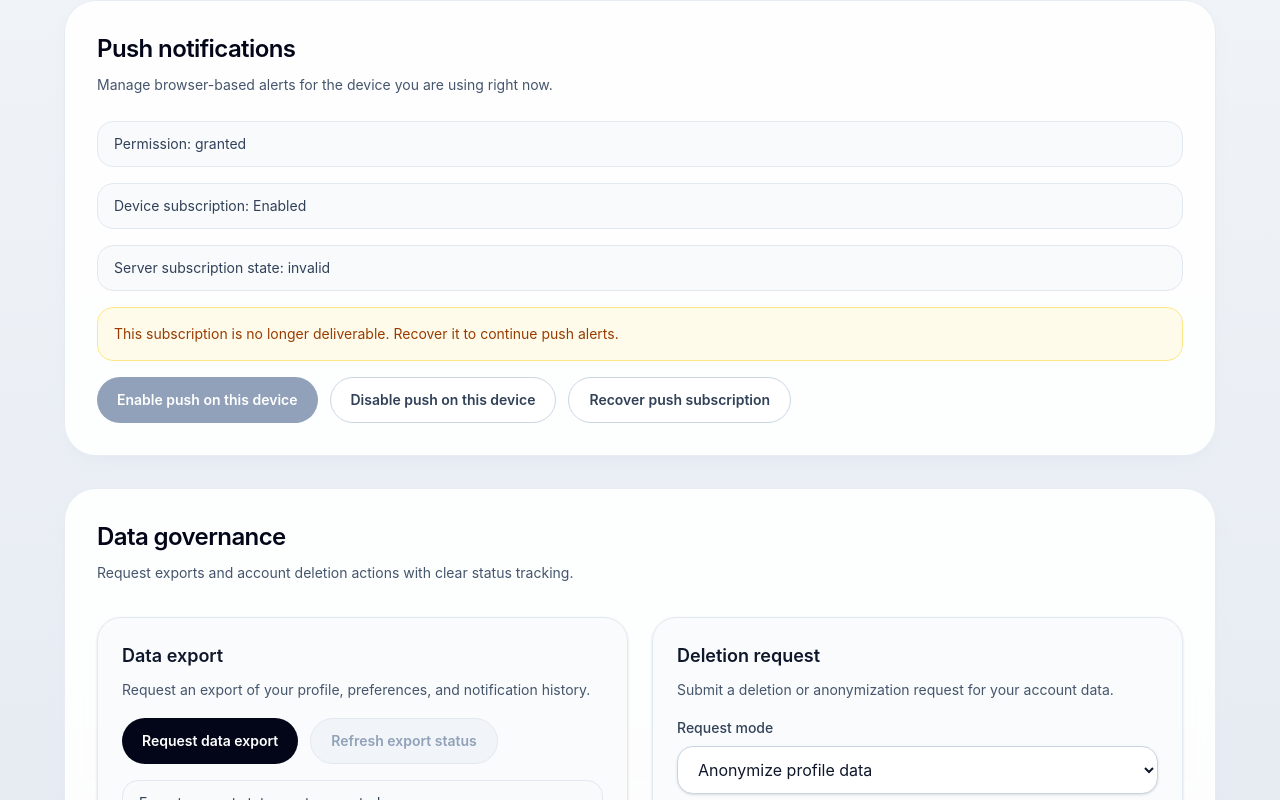
Scenario: SettingsPreferencesForm › maps invalid backend state to recover action
(page scrolled)
Expected: the text "Server subscription state: invalid" is shown, [97,245,1183,291]
Expected: the text "This subscription is no longer deliverable. Recover it to continue push alerts." is shown, [97,307,1183,361]
What coordinates should you click on to do the following:
click the button "Recover push subscription"
I would click on:
 (680, 400)
Its box is [568,377,791,423].
(page scrolled)
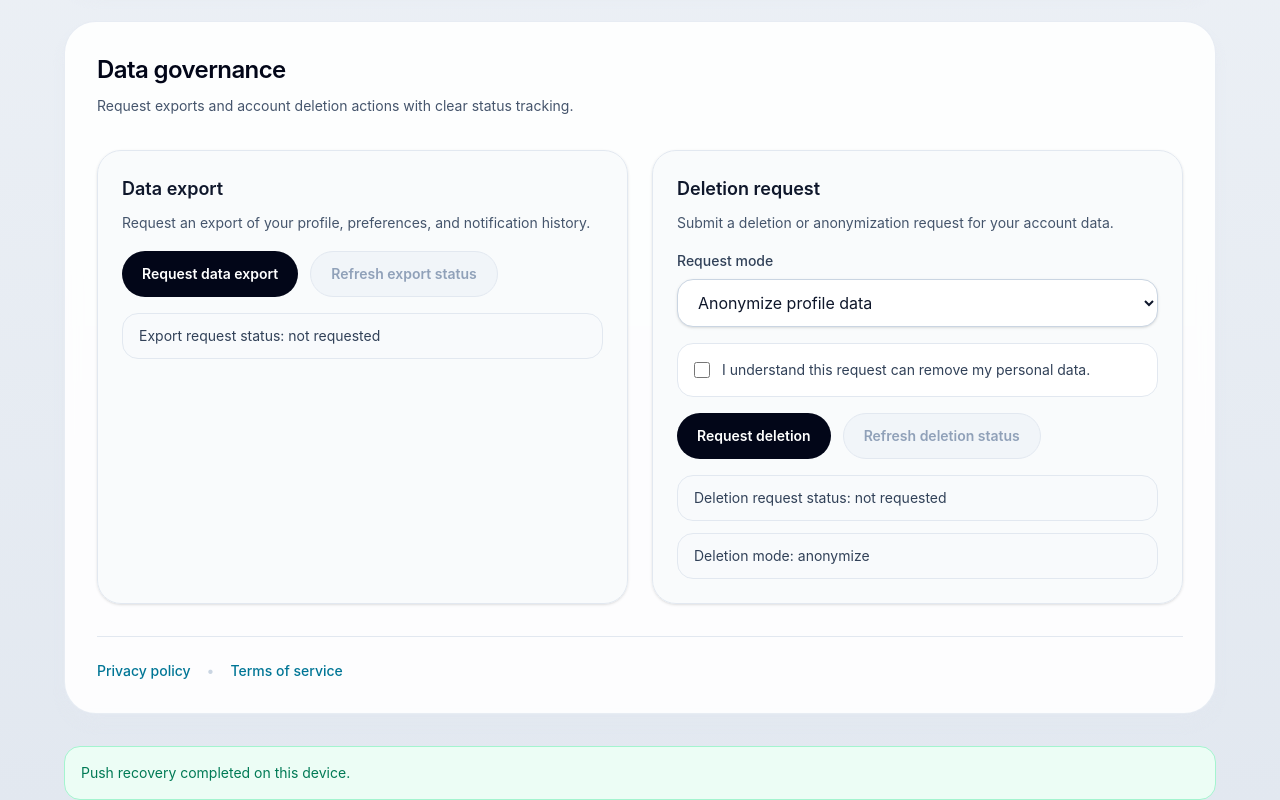
Result: the text "Push recovery completed on this device." is shown at [64,746,1216,799]
